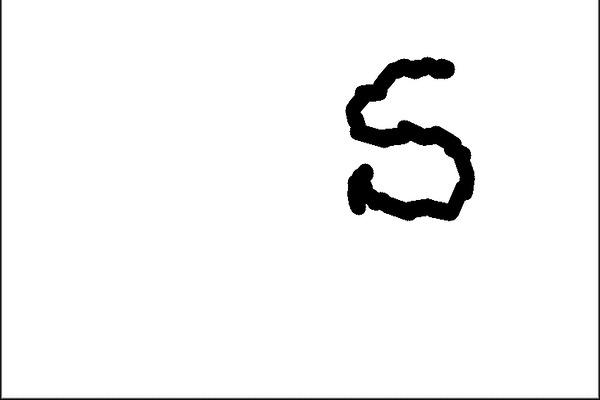S: (332, 53, 488, 231)
